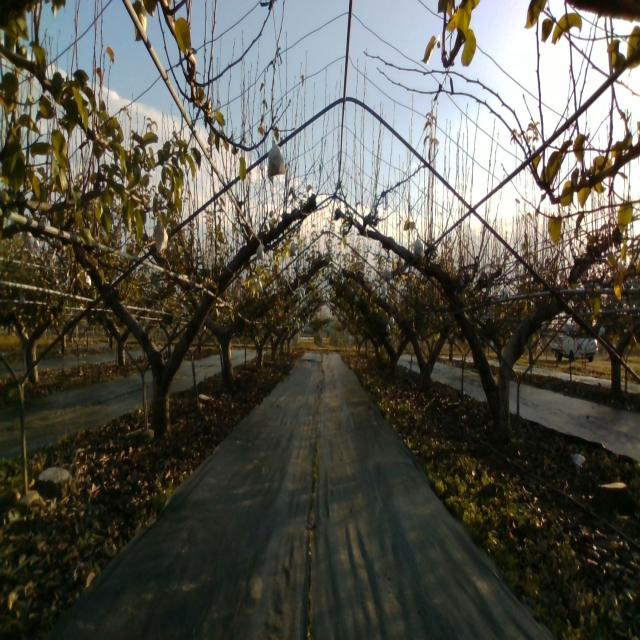pearbags: (266, 136, 287, 176), (154, 229, 168, 254), (413, 235, 425, 260)
